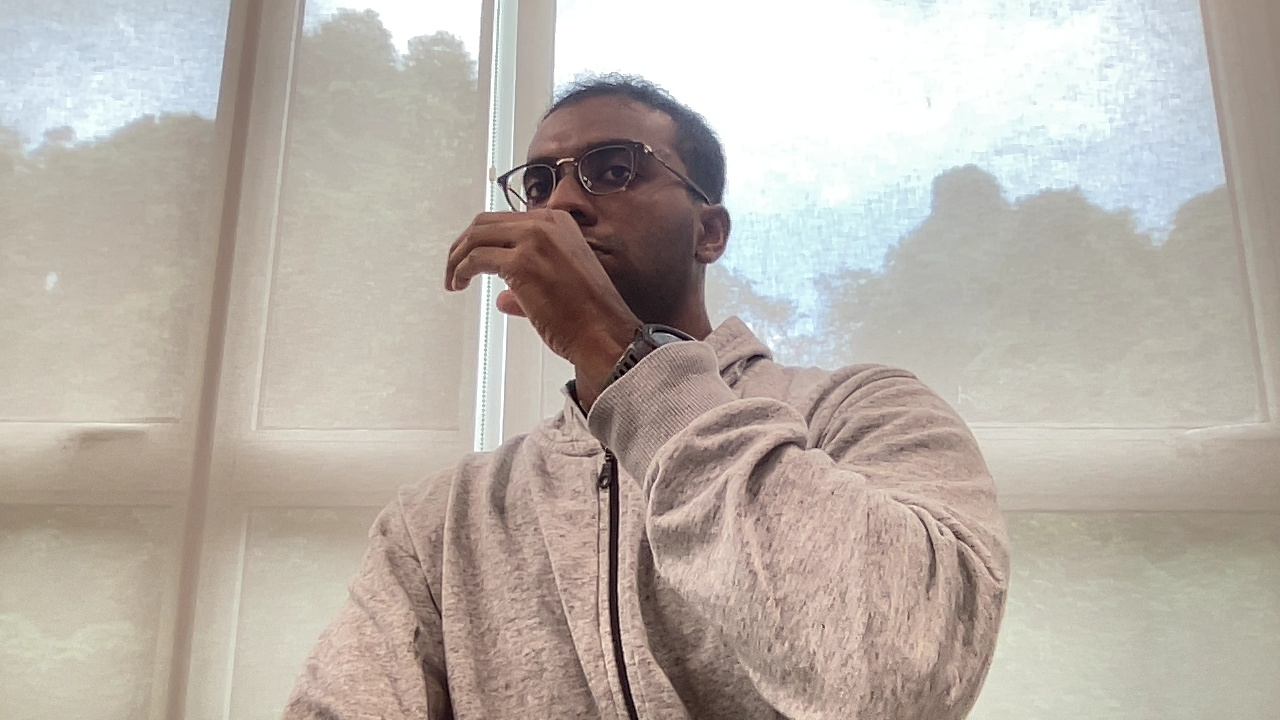drink: (440, 198, 627, 347)
